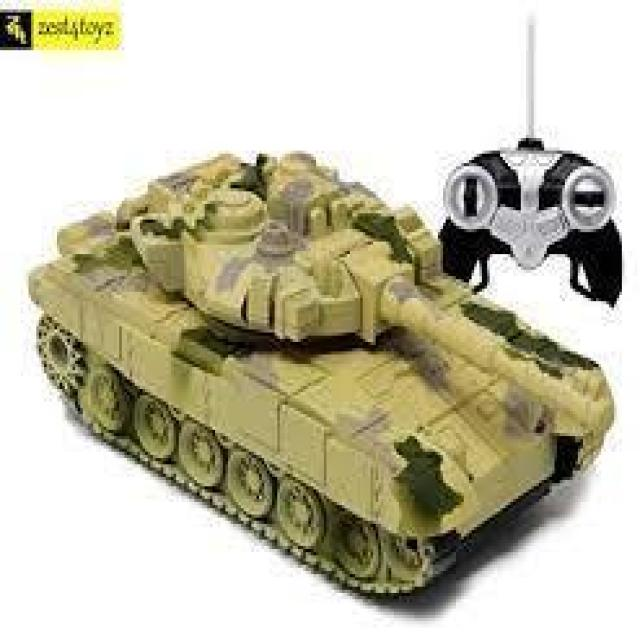Tanks: (18, 130, 433, 635)
